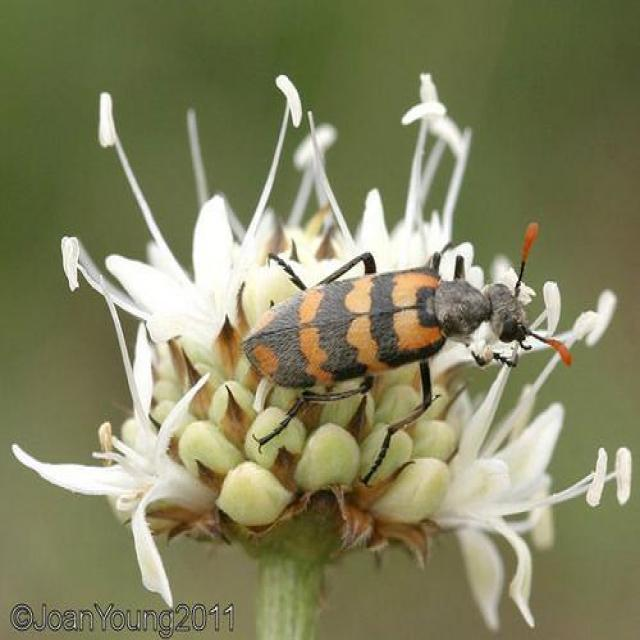BlisterBeetle-Adult-: (235, 222, 580, 437)
